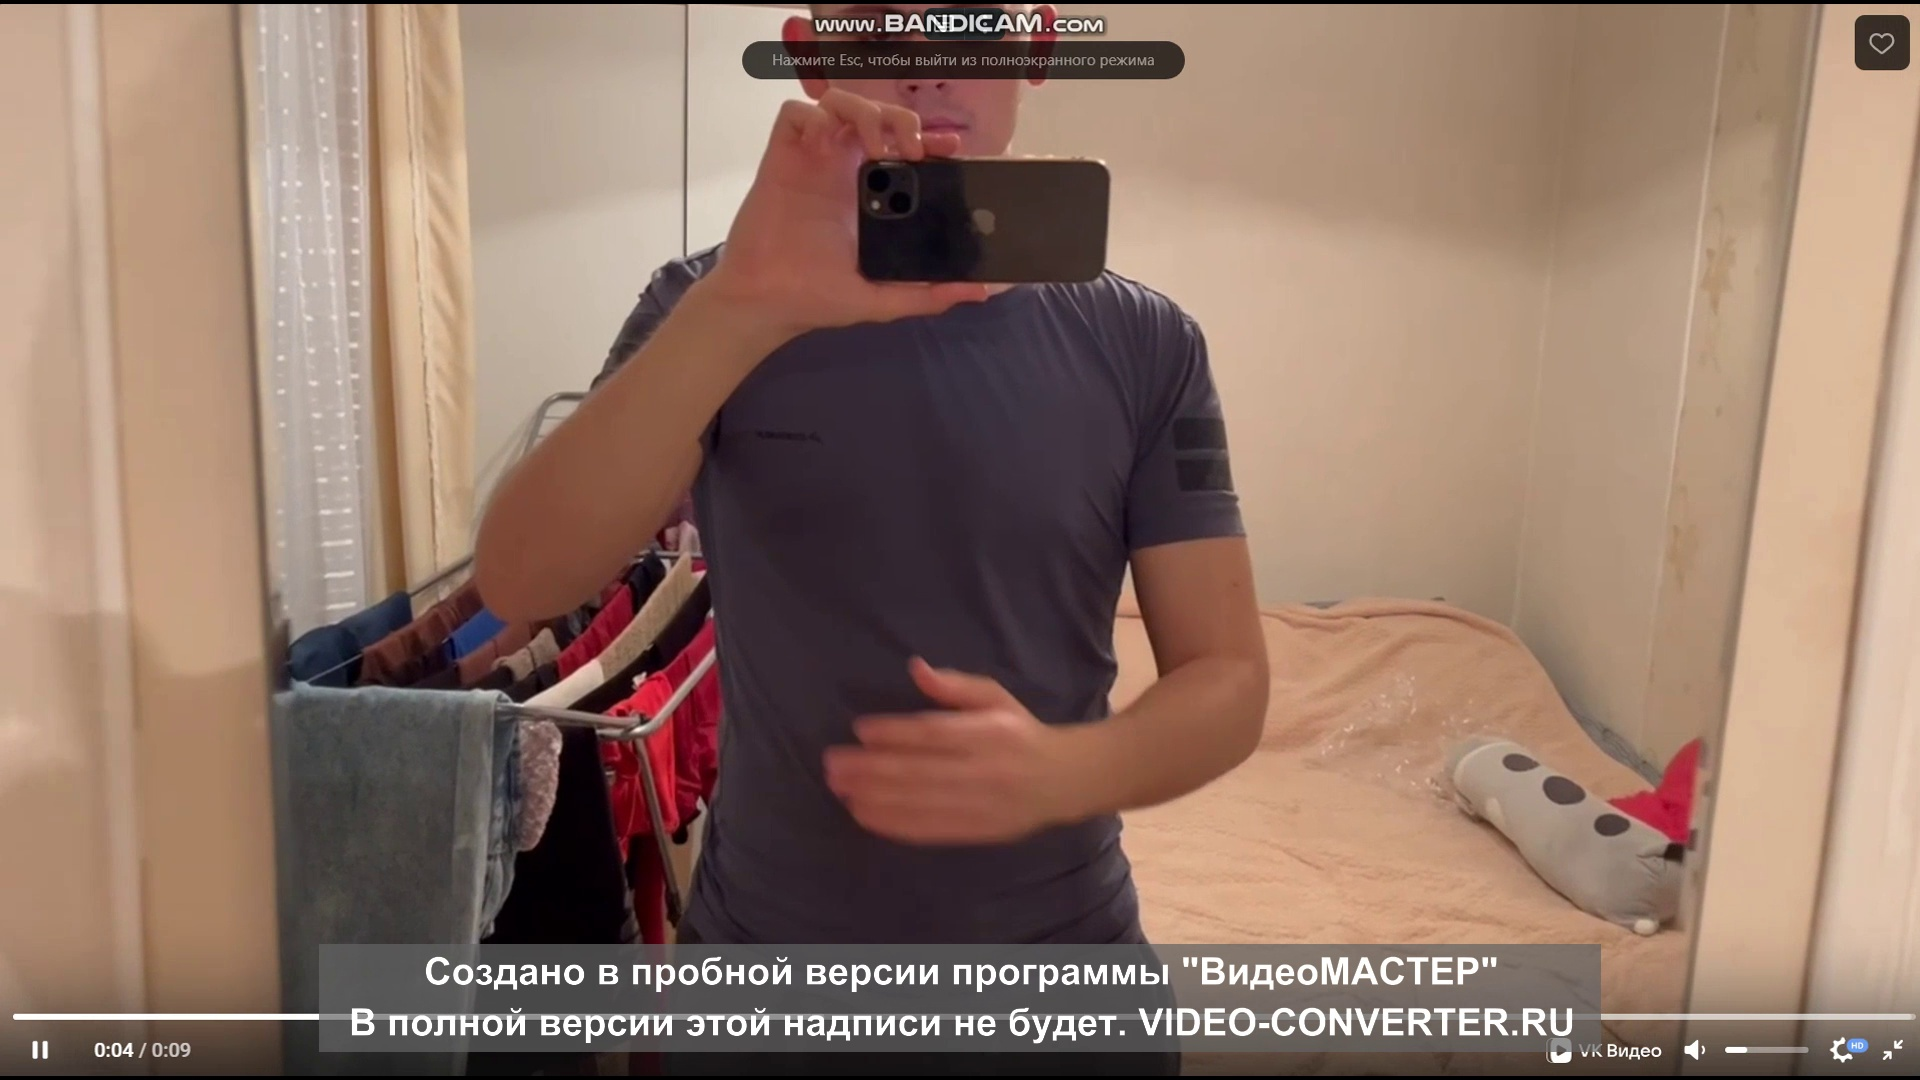Кисть: (822, 655, 1063, 847)
